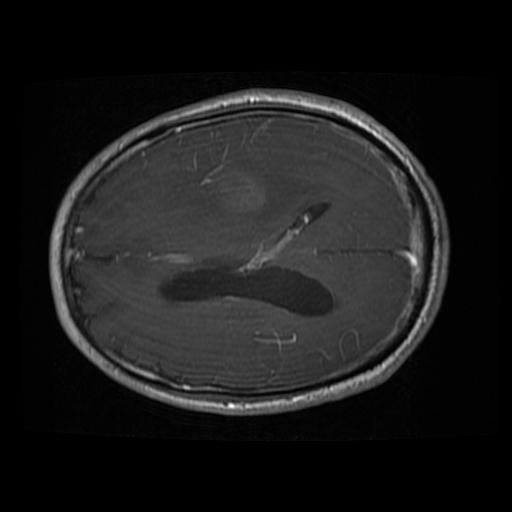glioma: (200, 161, 270, 223)
